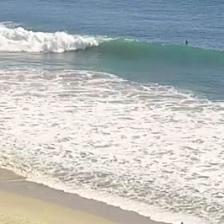surfer: (185, 40, 188, 44)
